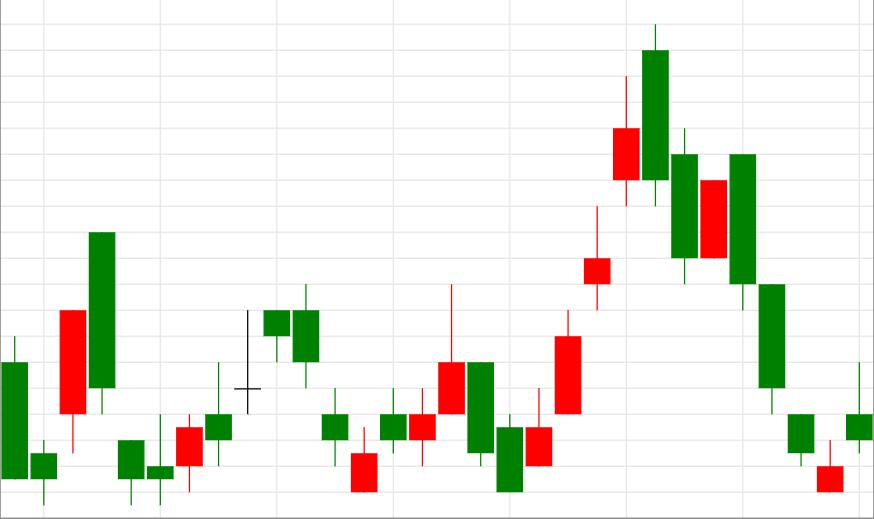bearish_engulfing_fall: (525, 25, 669, 467)
